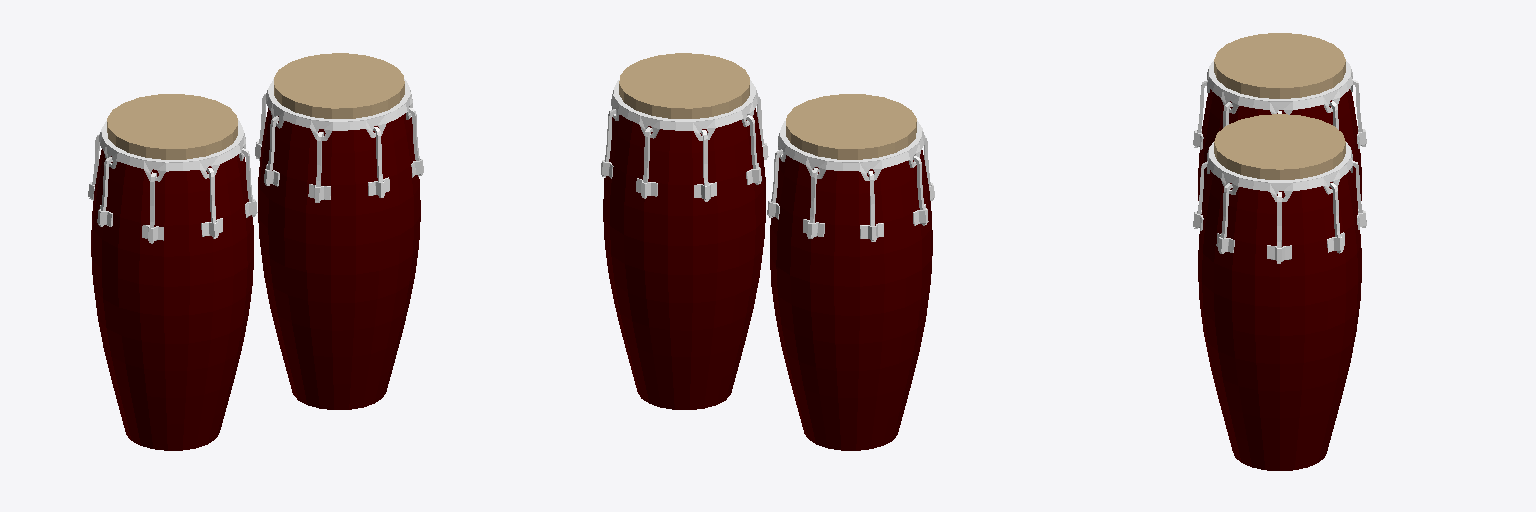
Rendered from Congas.obj.
The picture shows the model from 3 angles: view 1: azimuth 30°, elevation 25°; view 2: azimuth 150°, elevation 25°; view 3: azimuth 270°, elevation 25°; orthographic projection.
Visible parts, largest first — view 1: polySurface1; view 2: polySurface1; view 3: polySurface1.
Boxes of the visible parts, <box> form: polySurface1: <box>88,53,423,450</box>; polySurface1: <box>601,53,934,450</box>; polySurface1: <box>1193,33,1366,470</box>.
Bounding box in the file's own units: 8.55 × 7.97 × 4.06.